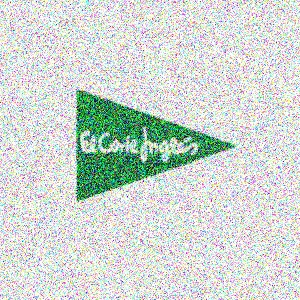corte_ingles: (201, 45, 277, 136)
